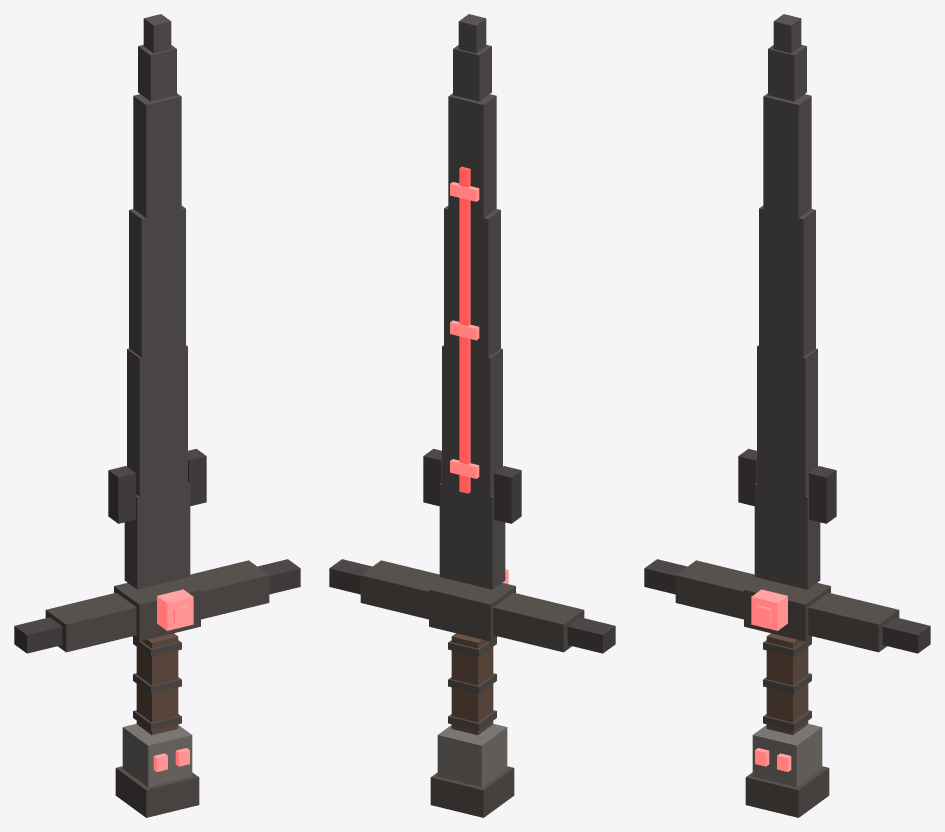
The model's file is shadow_sword.glb.
The picture shows the model from 3 angles, left to right: view 1: azimuth 30°, elevation 25°; view 2: azimuth 150°, elevation 25°; view 3: azimuth 330°, elevation 25°; orthographic projection.
Parts seen in each view (by area): view 1: Weapon_Shadow_Sword; view 2: Weapon_Shadow_Sword; view 3: Weapon_Shadow_Sword.
Boxes of the visible parts, x1,y1,x2,y2 form: Weapon_Shadow_Sword: (14,14,300,817); Weapon_Shadow_Sword: (329,14,615,817); Weapon_Shadow_Sword: (644,14,930,817).
Size of the model in its own units: 0.62 by 1.69 by 0.155.
